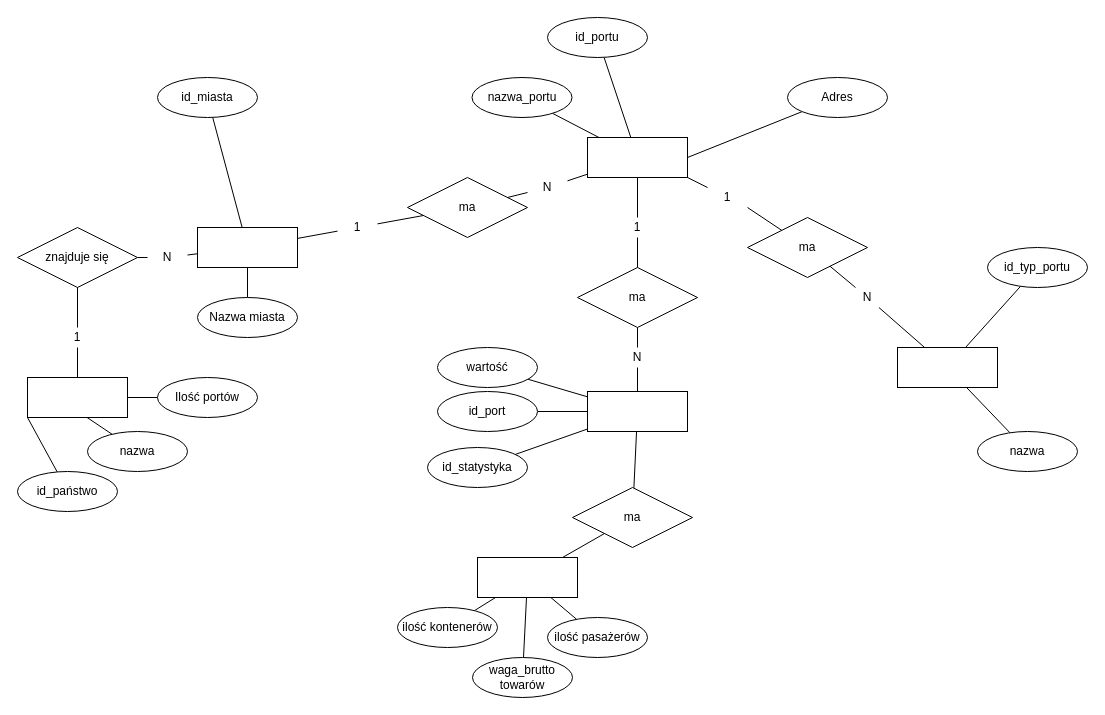
The diagram is 1105 pixels wide and 715 high, and some of its shapes have lost their labels. Each missing label, with the centre of its shape:
Miasto: the point at 247,247
Państwo: the point at 77,397
Port: the point at 637,157
Statystyka: the point at 637,411
typ_portu: the point at 947,367
typ_statystyki: the point at 527,577
